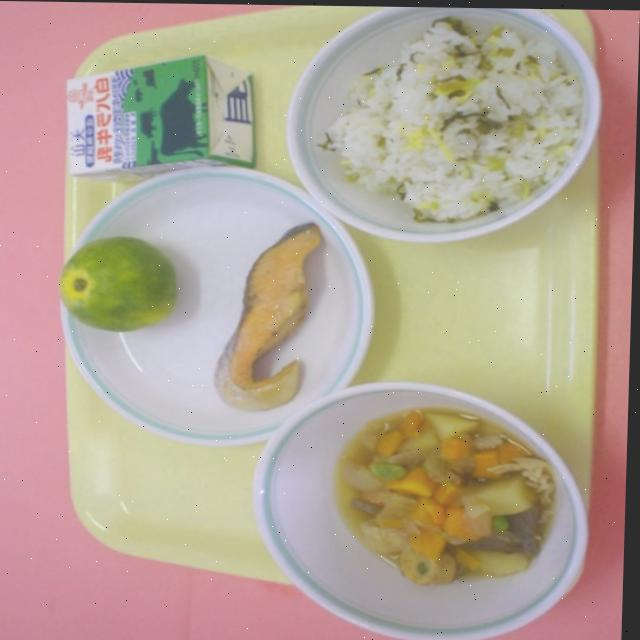熟制海鲜: (206, 201, 346, 415)
